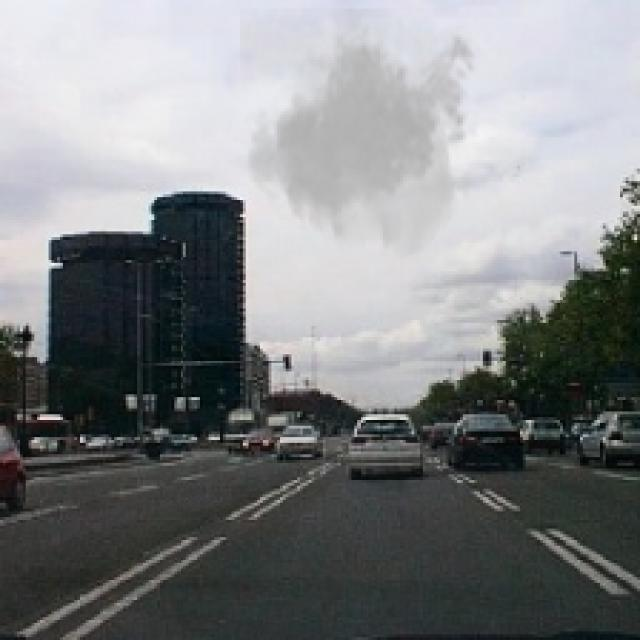smoke: (240, 8, 483, 263)
